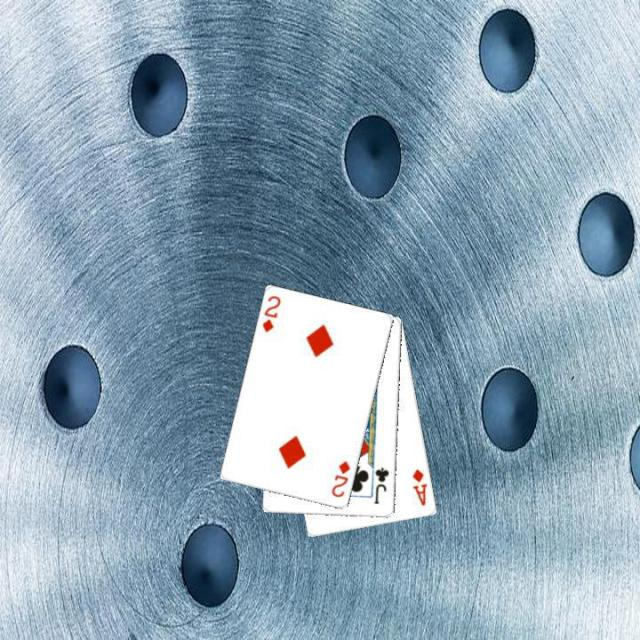2D: (328, 457, 352, 499), (258, 292, 282, 334)
AD: (409, 465, 429, 507)
JC: (371, 464, 391, 506)
